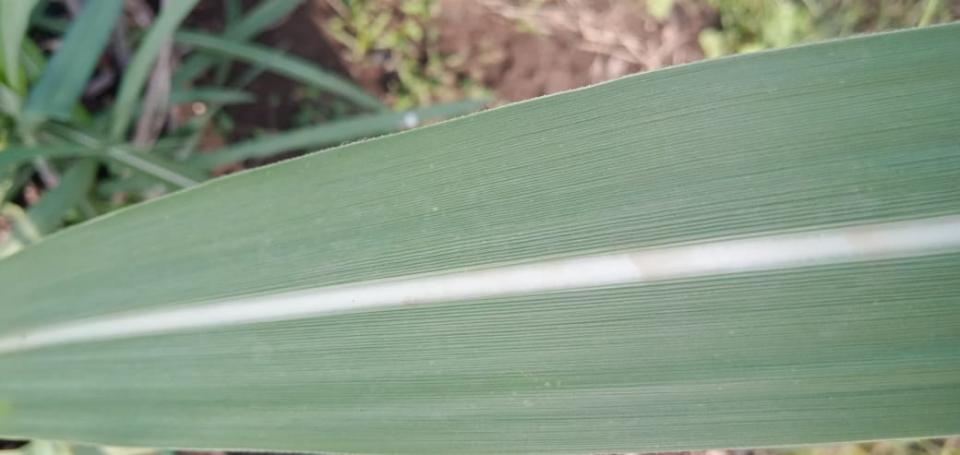Healthy: (0, 24, 959, 454)
